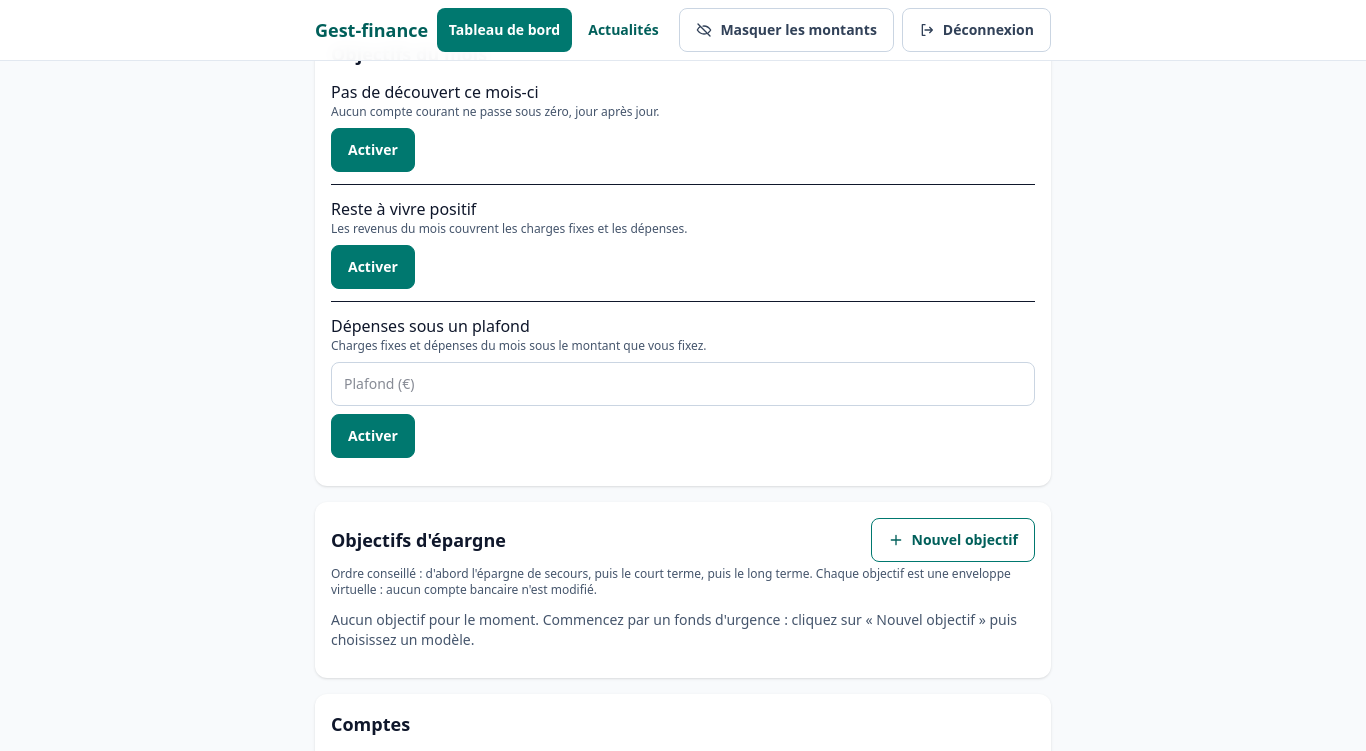
Test: prévisionnel et objectifs › refuse un plafond invalide sans appeler l'API
(page scrolled)
Type "abc" into the field named "Plafond de dépenses".
click(683, 384); type("abc")  # box 331,362 -> 1035,406
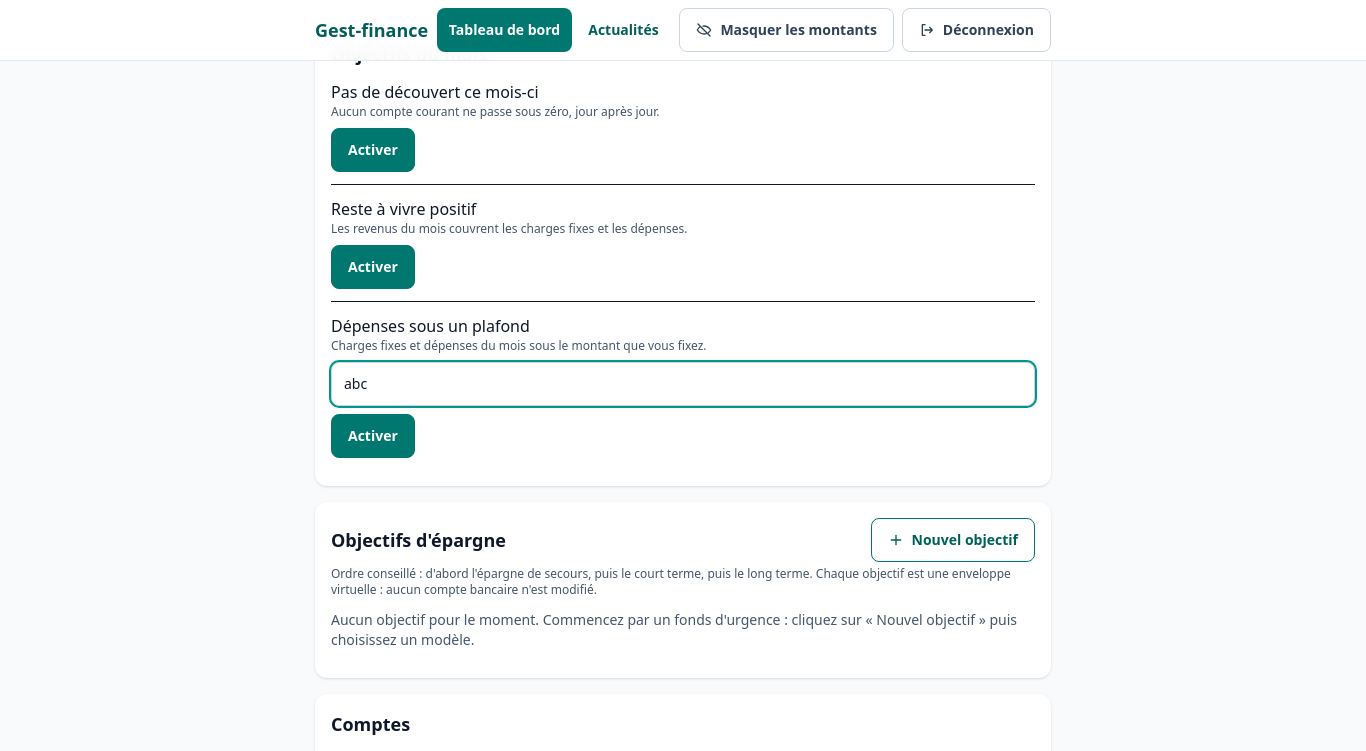
Click the button "Activer" below "Dépenses sous un plafond".
click(373, 436)  # box 331,414 -> 415,458
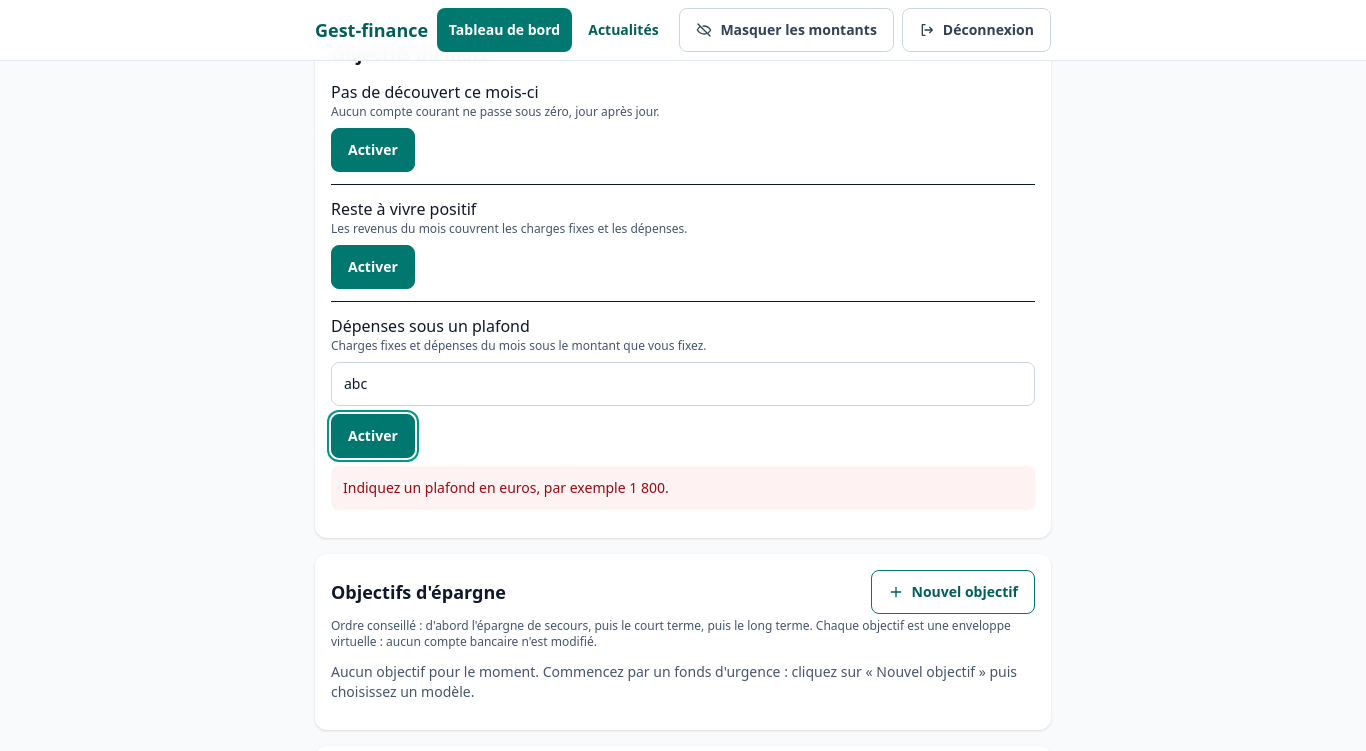
Expected: the message shows "Indiquez un plafond en euros", 343,478 -> 669,497
